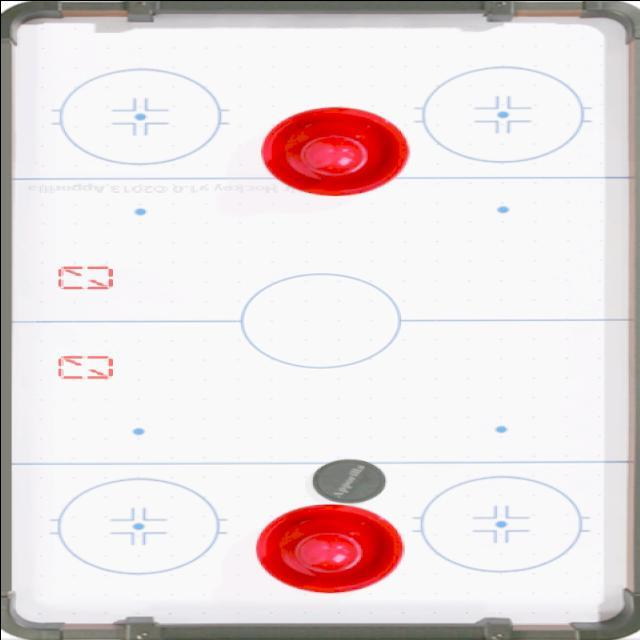chip: (314, 458, 386, 508)
